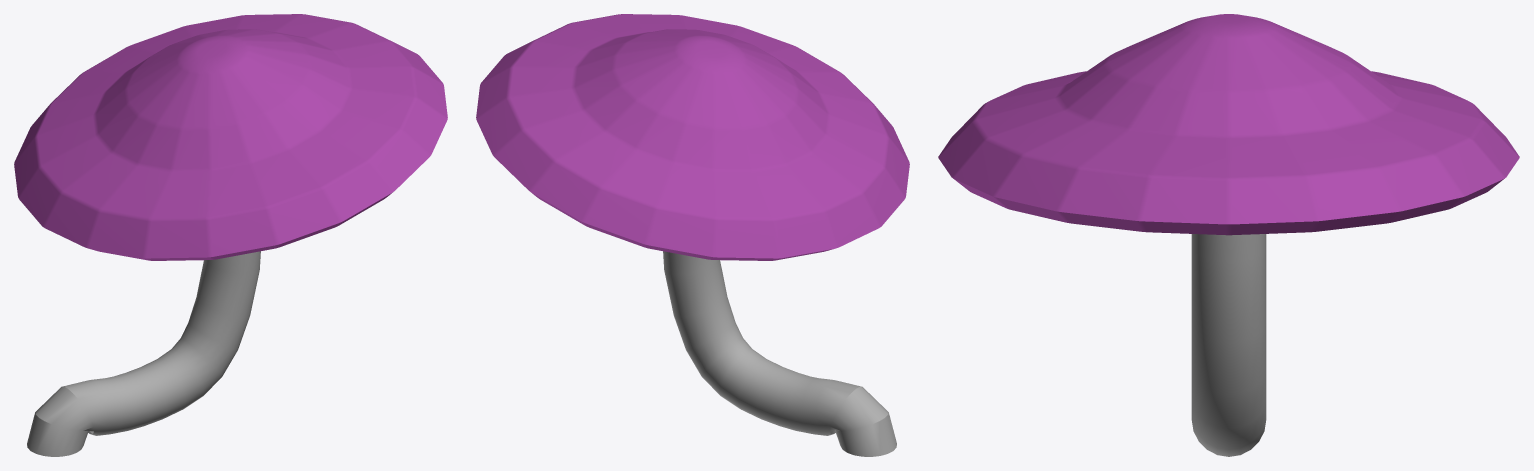
File: mushroom flat 1.fbx
3 renders of one model, left to right at view 1: azimuth 30°, elevation 25°; view 2: azimuth 150°, elevation 25°; view 3: azimuth 270°, elevation 25°, orthographic. The views are drawn at different scales.
Parts seen in each view (by area): view 1: mushroom_flat; view 2: mushroom_flat; view 3: mushroom_flat.
Part boxes in pixels (x1,y1,x2,y2): mushroom_flat: (14, 14, 447, 456); mushroom_flat: (476, 14, 909, 456); mushroom_flat: (938, 14, 1519, 456).
Bounding box in the file's own units: 0.4114 × 0.4061 × 0.3654.
